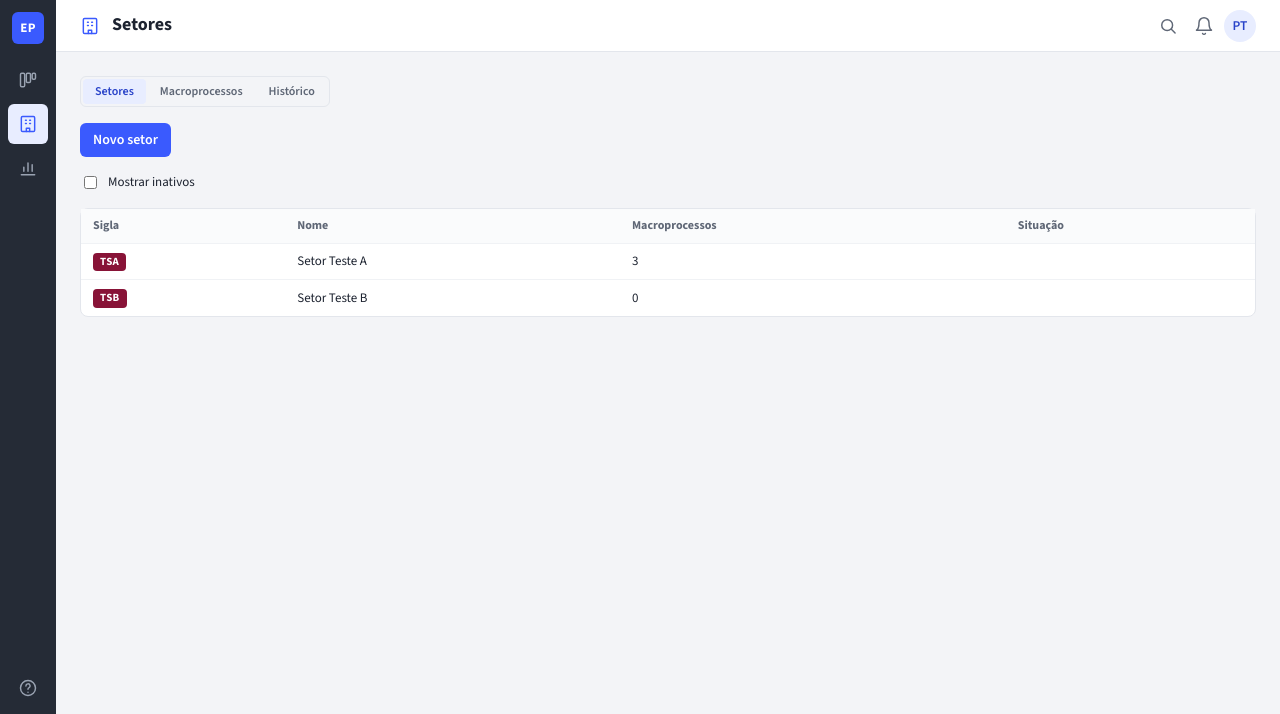
setor sem vínculos mostra "Este setor ainda não participa de nenhum macroprocesso."
Click the cell "Setor Teste B" at {"x": 332, "y": 298}, box [285,280,620,316]
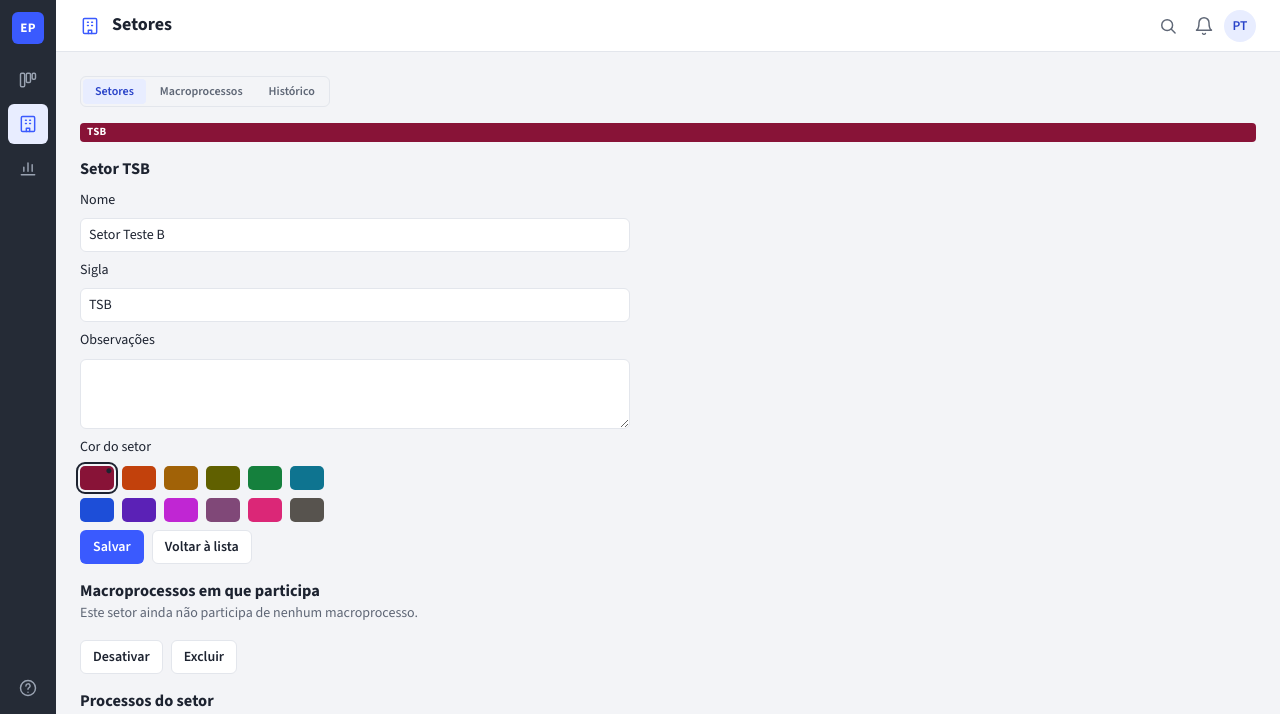
expect the text "Este setor ainda não participa de nenhum macroprocesso." is shown: met, box [80,603,418,623]
